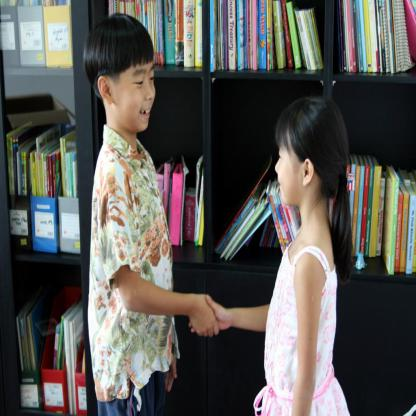face: (120, 40, 157, 131), (276, 124, 304, 208)
